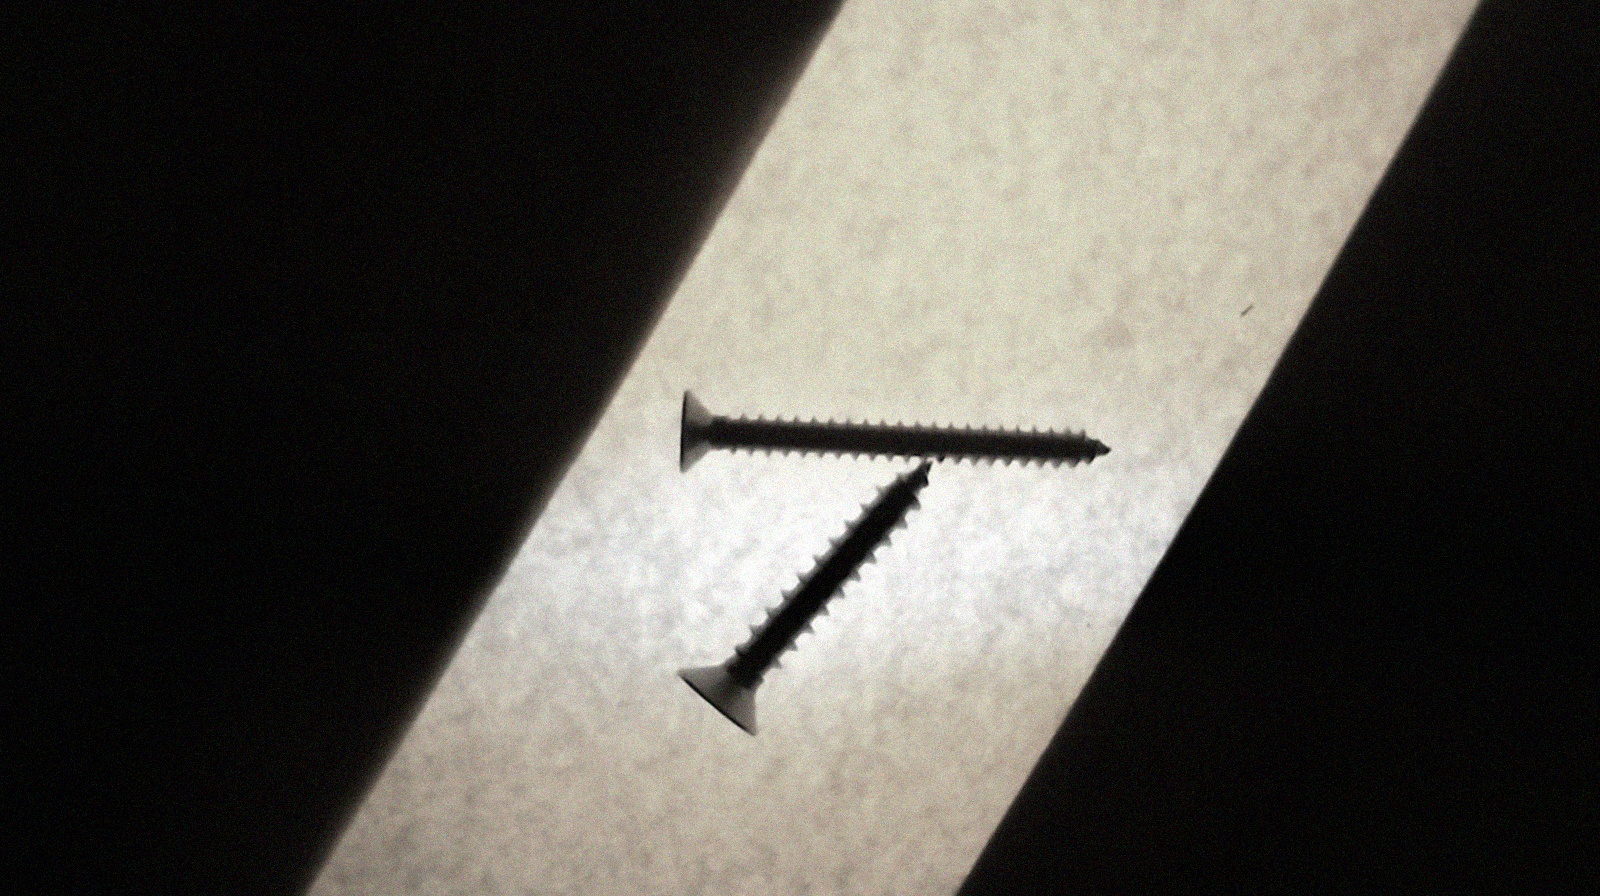S001: (673, 452, 937, 748)
S002: (653, 391, 1120, 471)
